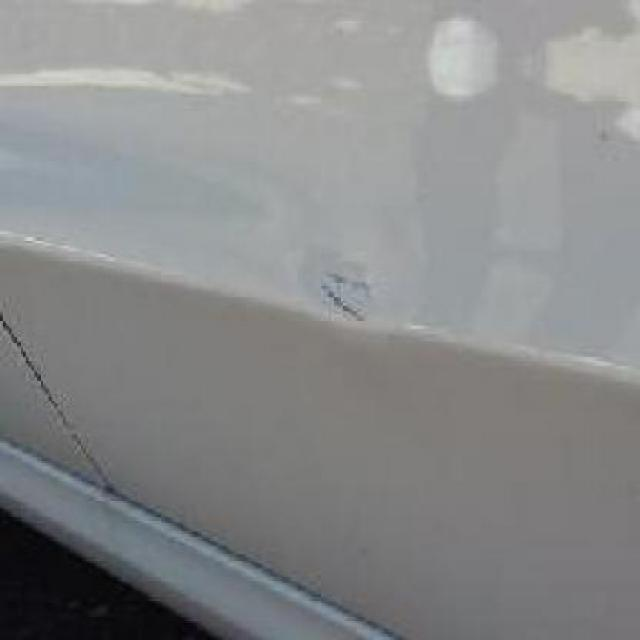dent-or-scratch: (304, 254, 404, 331)
